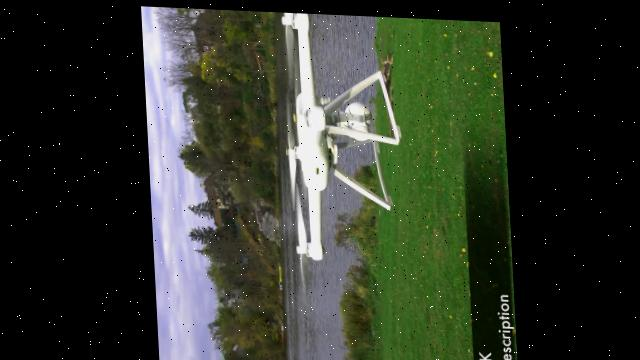drone: (263, 9, 402, 281)
